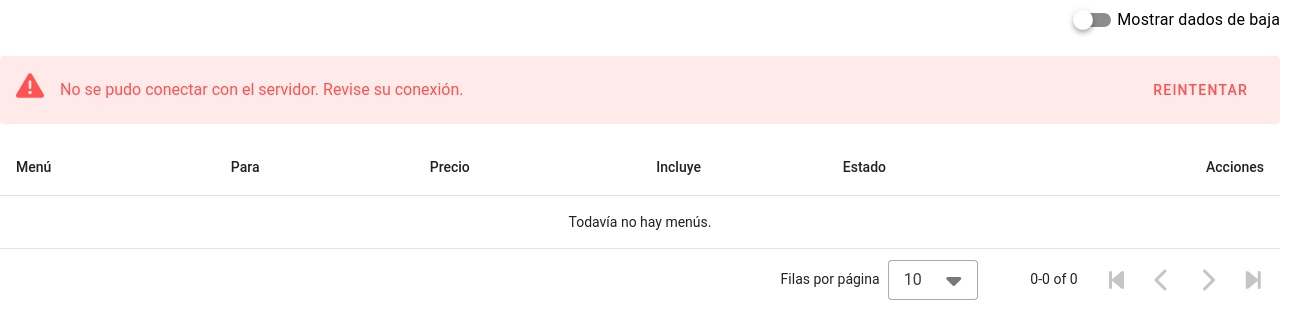
Test: MenusView › listado › error de carga con reintento
The width and height of the screenshot is (1292, 317).
Click the button "Reintentar". click: coordinates (1200, 90)
box: [1136,72,1264,108]
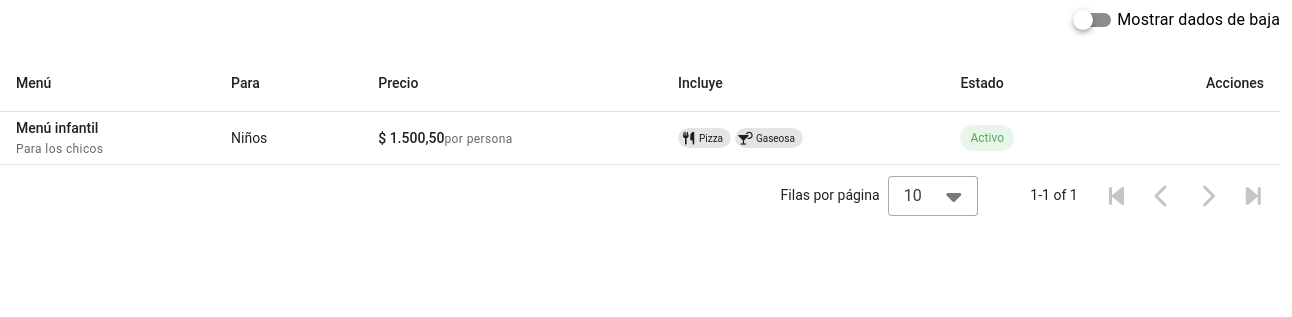
Expected: the text "Menú infantil" is shown, [16,120,98,136]
